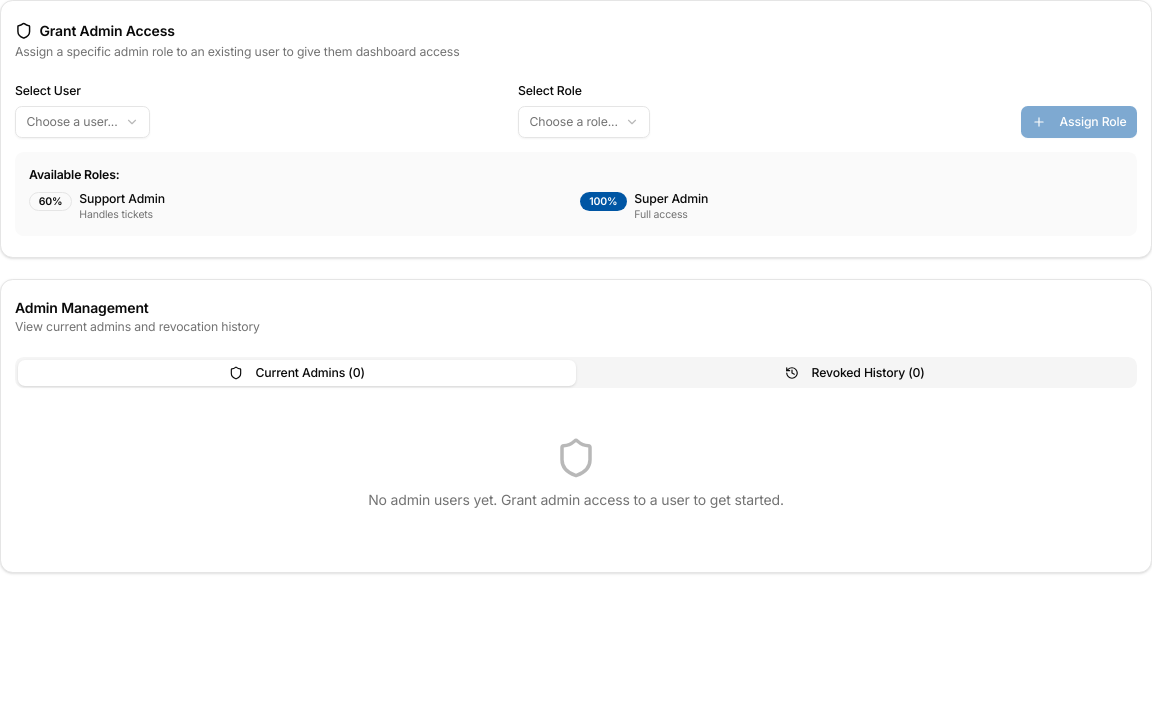
Test: AdminUsersManagementTab › initial load › shows the empty state for admins and revoked history when both are empty
The image size is (1152, 720).
Expected: the text "No admin users yet. Grant admin access to a user to get started." is shown, [368,490,784,508]
Click the tab "Revoked History (0)" at (855, 373), box [576,360,1134,386]
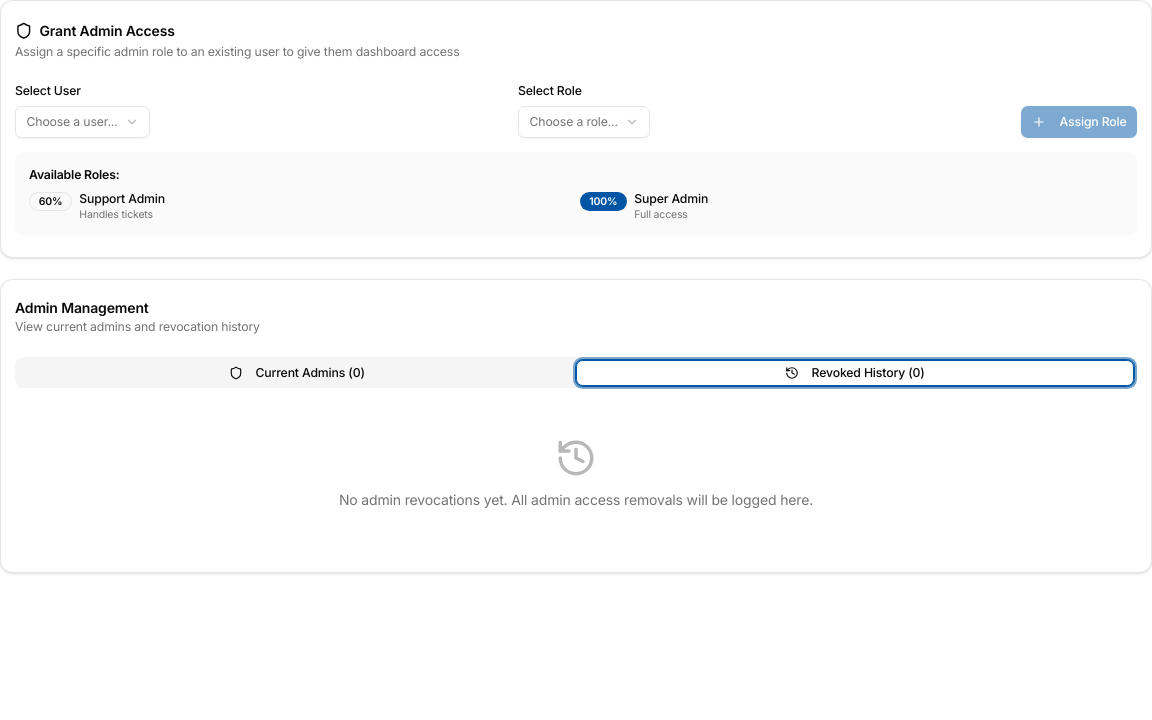
Now the text "No admin revocations yet. All admin access removals will be logged here." is shown, box [339,490,813,508]
